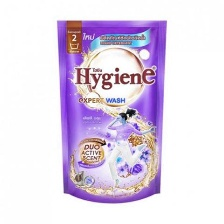book: (53, 16, 169, 205)
